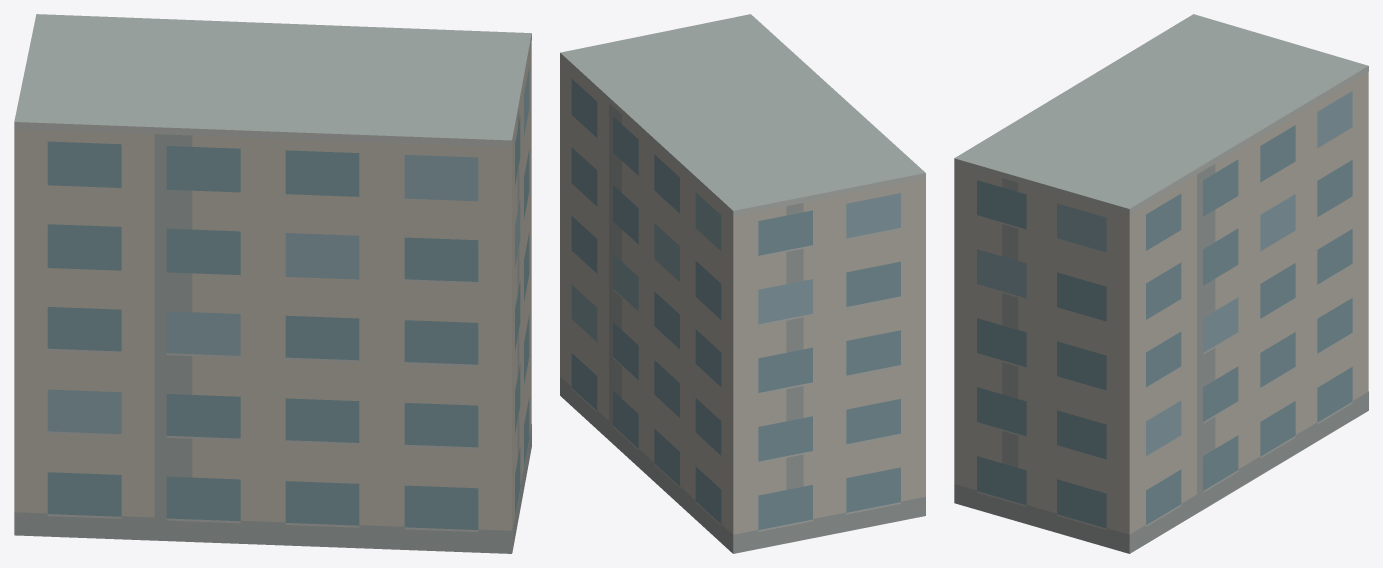
The model's file is survey-upis-32829875.glb.
3 views of the same model, side by side, from view 1: azimuth 30°, elevation 25°; view 2: azimuth 150°, elevation 25°; view 3: azimuth 270°, elevation 25° (orthographic). The views are drawn at different scales.
Visible parts, largest first — view 1: survey-upis-32829875.tmp; view 2: survey-upis-32829875.tmp; view 3: survey-upis-32829875.tmp.
Part boxes in pixels (box(x1,y1,x2,y2)): survey-upis-32829875.tmp: box(14, 14, 531, 553); survey-upis-32829875.tmp: box(560, 14, 925, 553); survey-upis-32829875.tmp: box(954, 14, 1368, 553).
Size of the model in its own units: 17.6 by 14.5 by 15.8.
